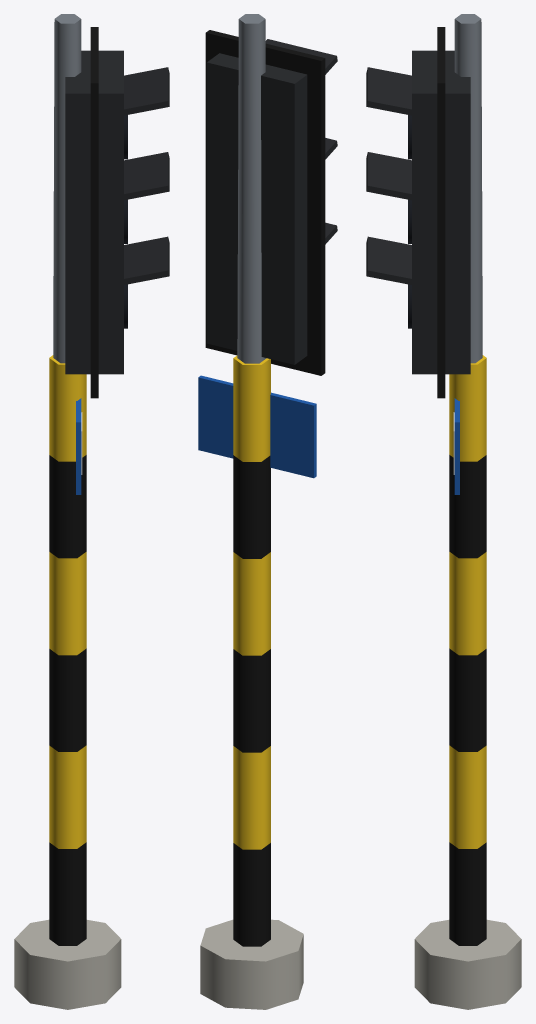
The model's file is lampu_merah.glb.
3 renders of one model, left to right at view 1: azimuth 90°, elevation 25°; view 2: azimuth 150°, elevation 25°; view 3: azimuth 270°, elevation 25°, orthographic.
Visible parts, largest first — view 1: body; view 2: body; view 3: body.
Part boxes in pixels (x1,y1,x2,y2): body: [14, 14, 169, 1009]; body: [198, 14, 337, 1009]; body: [366, 14, 521, 1009].
Bounding box in the file's own units: 0.5 × 4 × 0.5806.
1 material, 1 textured.
